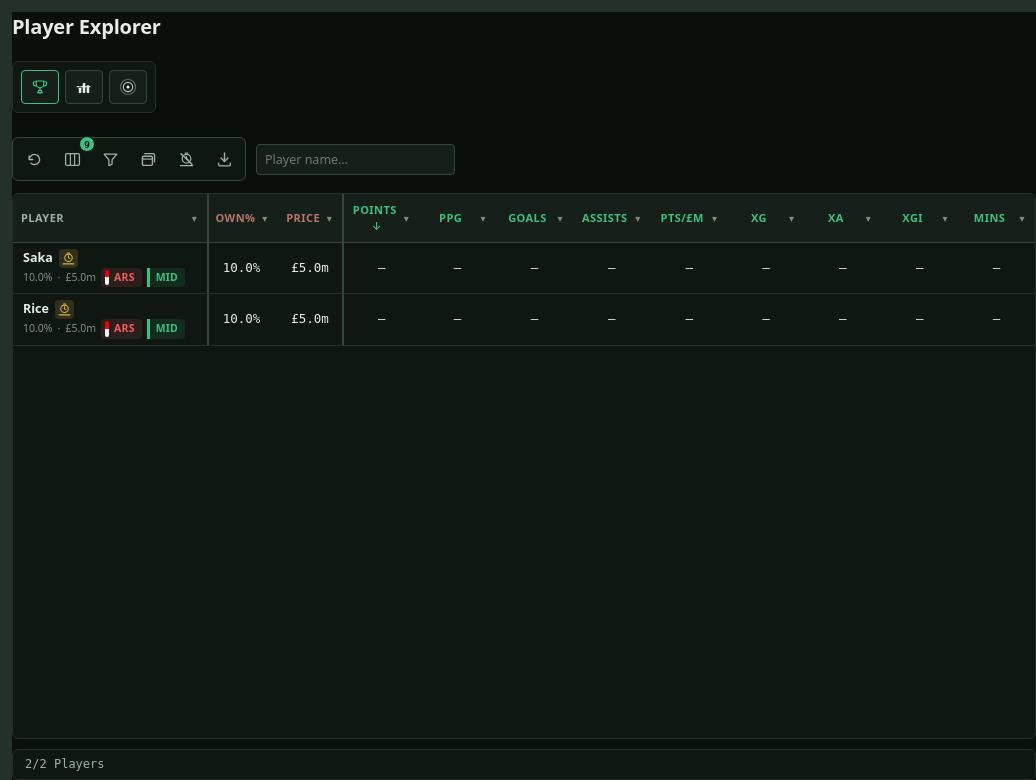
Test: Player Explorer with Understat mounted › with Understat switched off (no source), the page is the FPL page it always was
What coordinates should you click on to do the following:
click the button named "Current Season"
I would click on:
 (128, 87)
Its box is x1=109 y1=70 x2=147 y2=104.
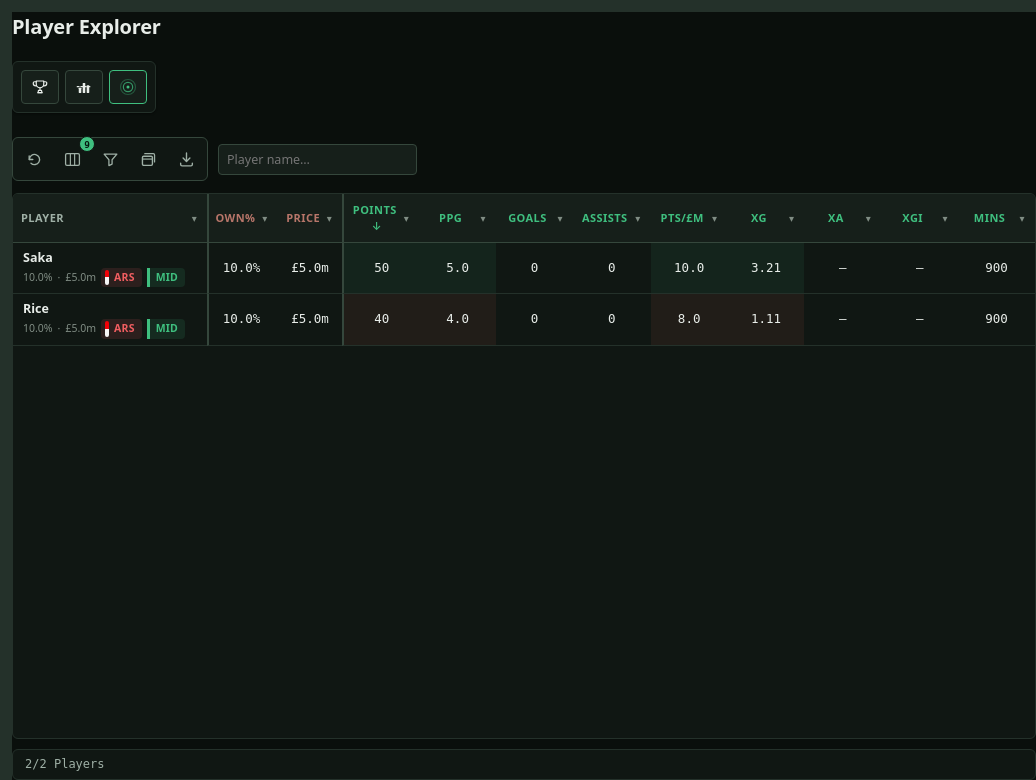
What coordinates should you click on to do the following:
click the button named "Columns"
I would click on:
 (72, 159)
Its box is x1=55 y1=142 x2=89 y2=176.
(page scrolled)
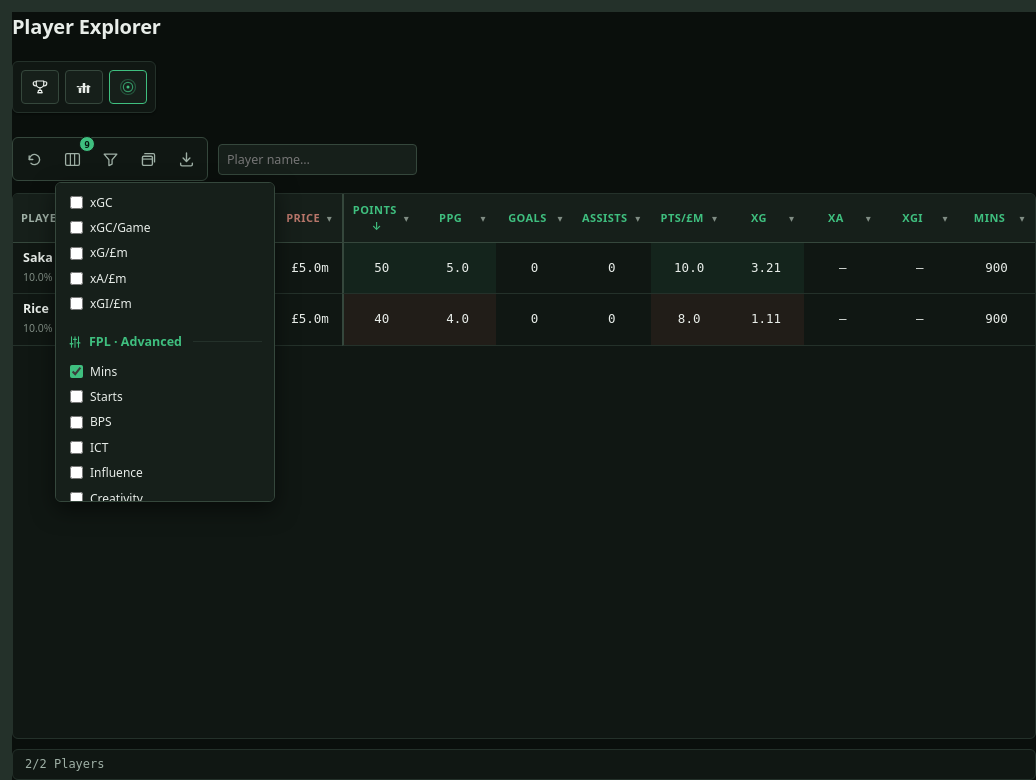
Result: the element with class "menu-group-heading" reads "FPL · Advanced" at x1=89 y1=332 x2=182 y2=350
